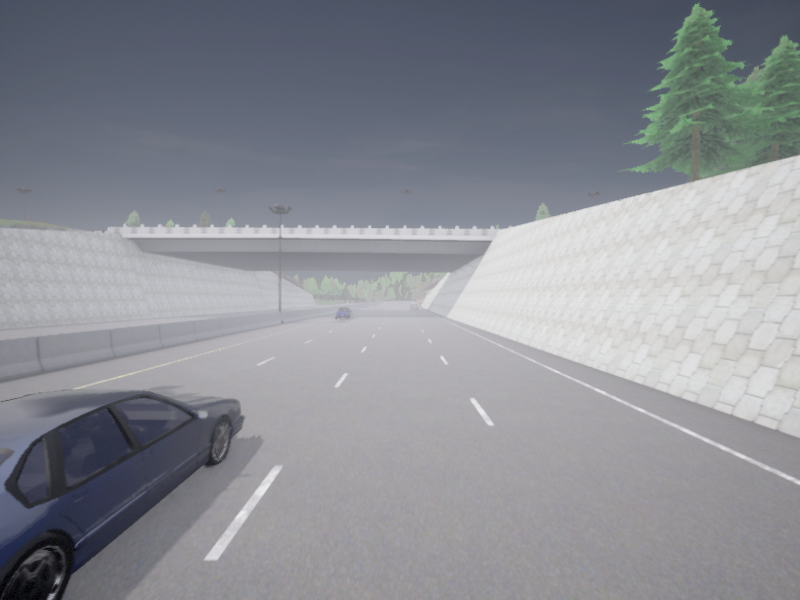vehicle: (0, 389, 244, 599), (336, 307, 352, 318), (410, 304, 417, 309)
